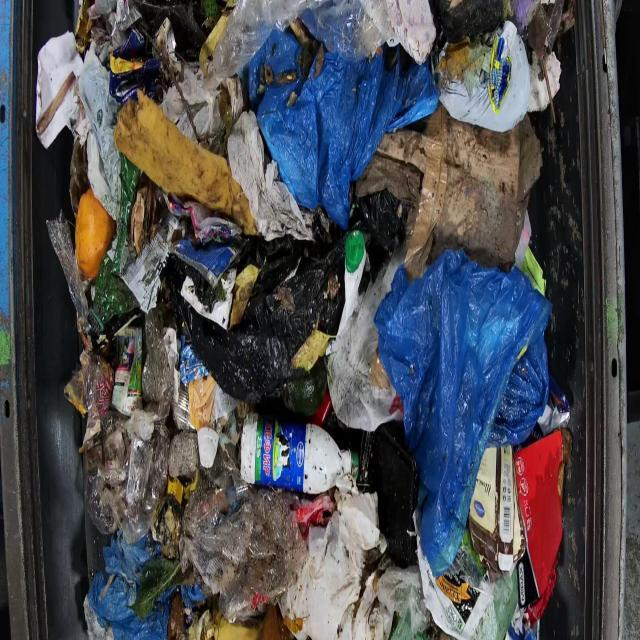cardboard: (29, 0, 591, 638)
cups: (238, 413, 353, 494)
